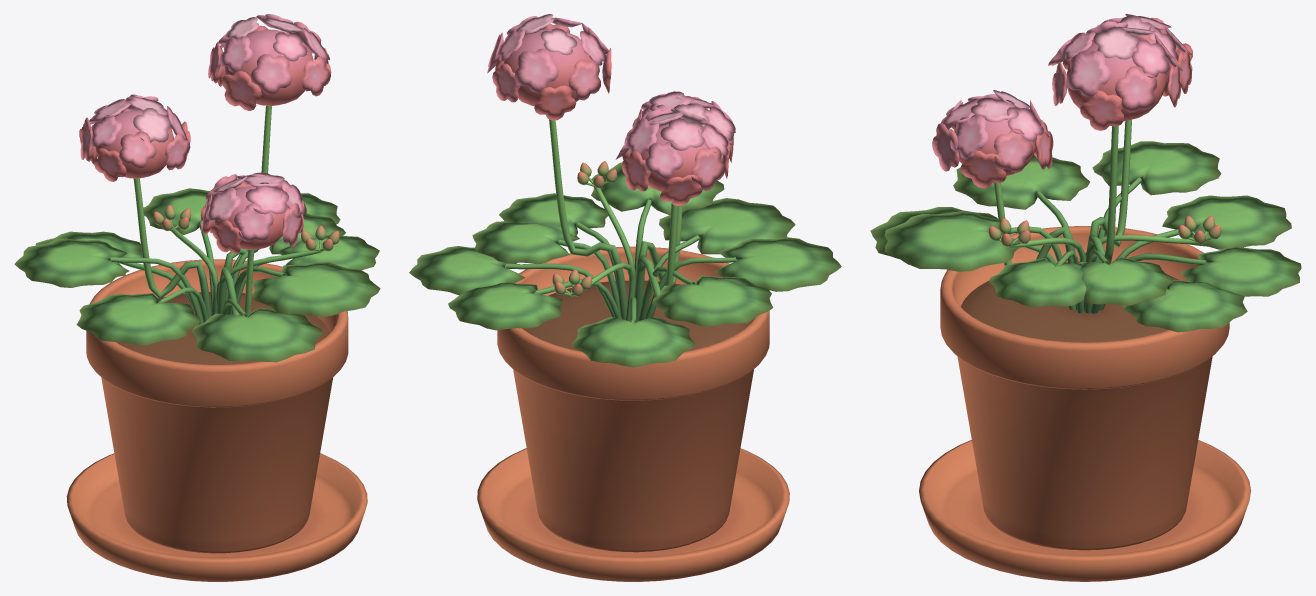
The model's file is flower-pot.glb.
The picture shows the model from 3 angles, left to right: view 1: azimuth 30°, elevation 25°; view 2: azimuth 150°, elevation 25°; view 3: azimuth 270°, elevation 25°; orthographic projection. The views are drawn at different scales.
Visible parts, largest first — view 1: flower-pot_body; view 2: flower-pot_body; view 3: flower-pot_body.
Boxes of the visible parts, box(x1,y1,x2,y2) form: flower-pot_body: box(14, 14, 380, 581); flower-pot_body: box(409, 14, 841, 581); flower-pot_body: box(870, 14, 1301, 581).
Bounding box in the file's own units: 0.2501 × 0.3544 × 0.2622.
1 material, 1 textured.
